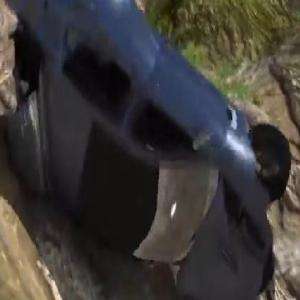fatal: (0, 0, 295, 300)
